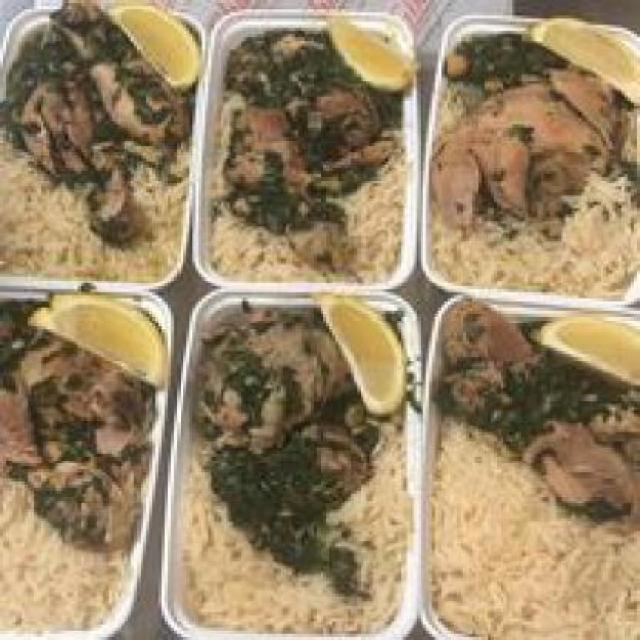fried rice: (428, 416, 638, 638), (183, 432, 405, 628), (202, 146, 410, 277), (428, 174, 634, 295)
molokhia: (208, 317, 367, 575), (224, 31, 382, 218), (6, 3, 183, 134), (448, 311, 630, 426), (444, 21, 584, 97)
